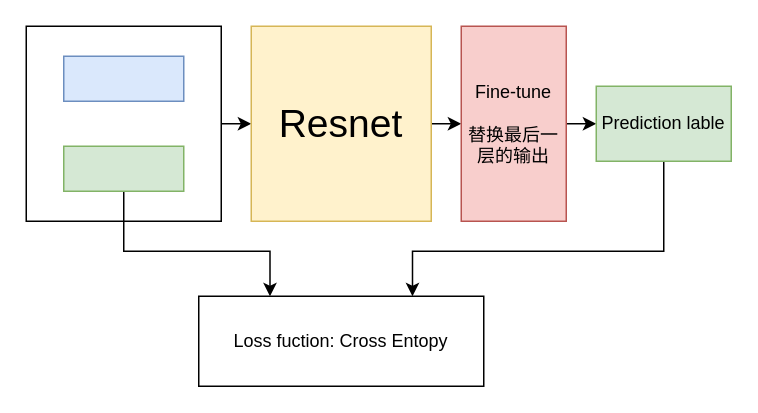
Image size: 758x413. Some labels were removed from this diagram. The shapes that lost their labels are listed below. From the top down, each one's centre as x and y in pixels, then its label:
At (x=123, y=78): "Image".
At (x=123, y=168): "Multi-lable".
